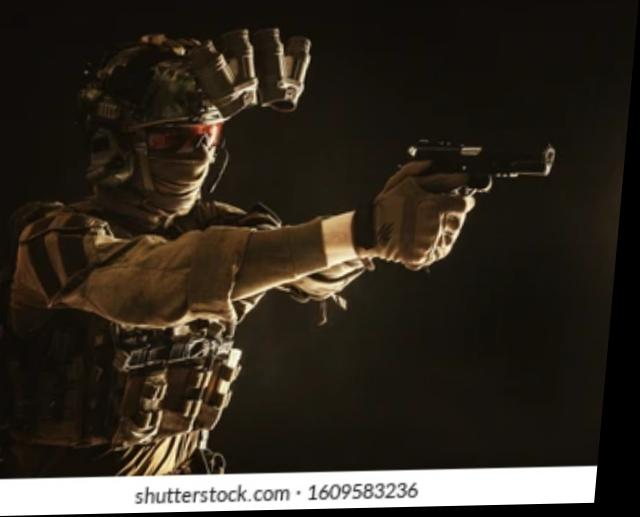other: (0, 27, 327, 458)
